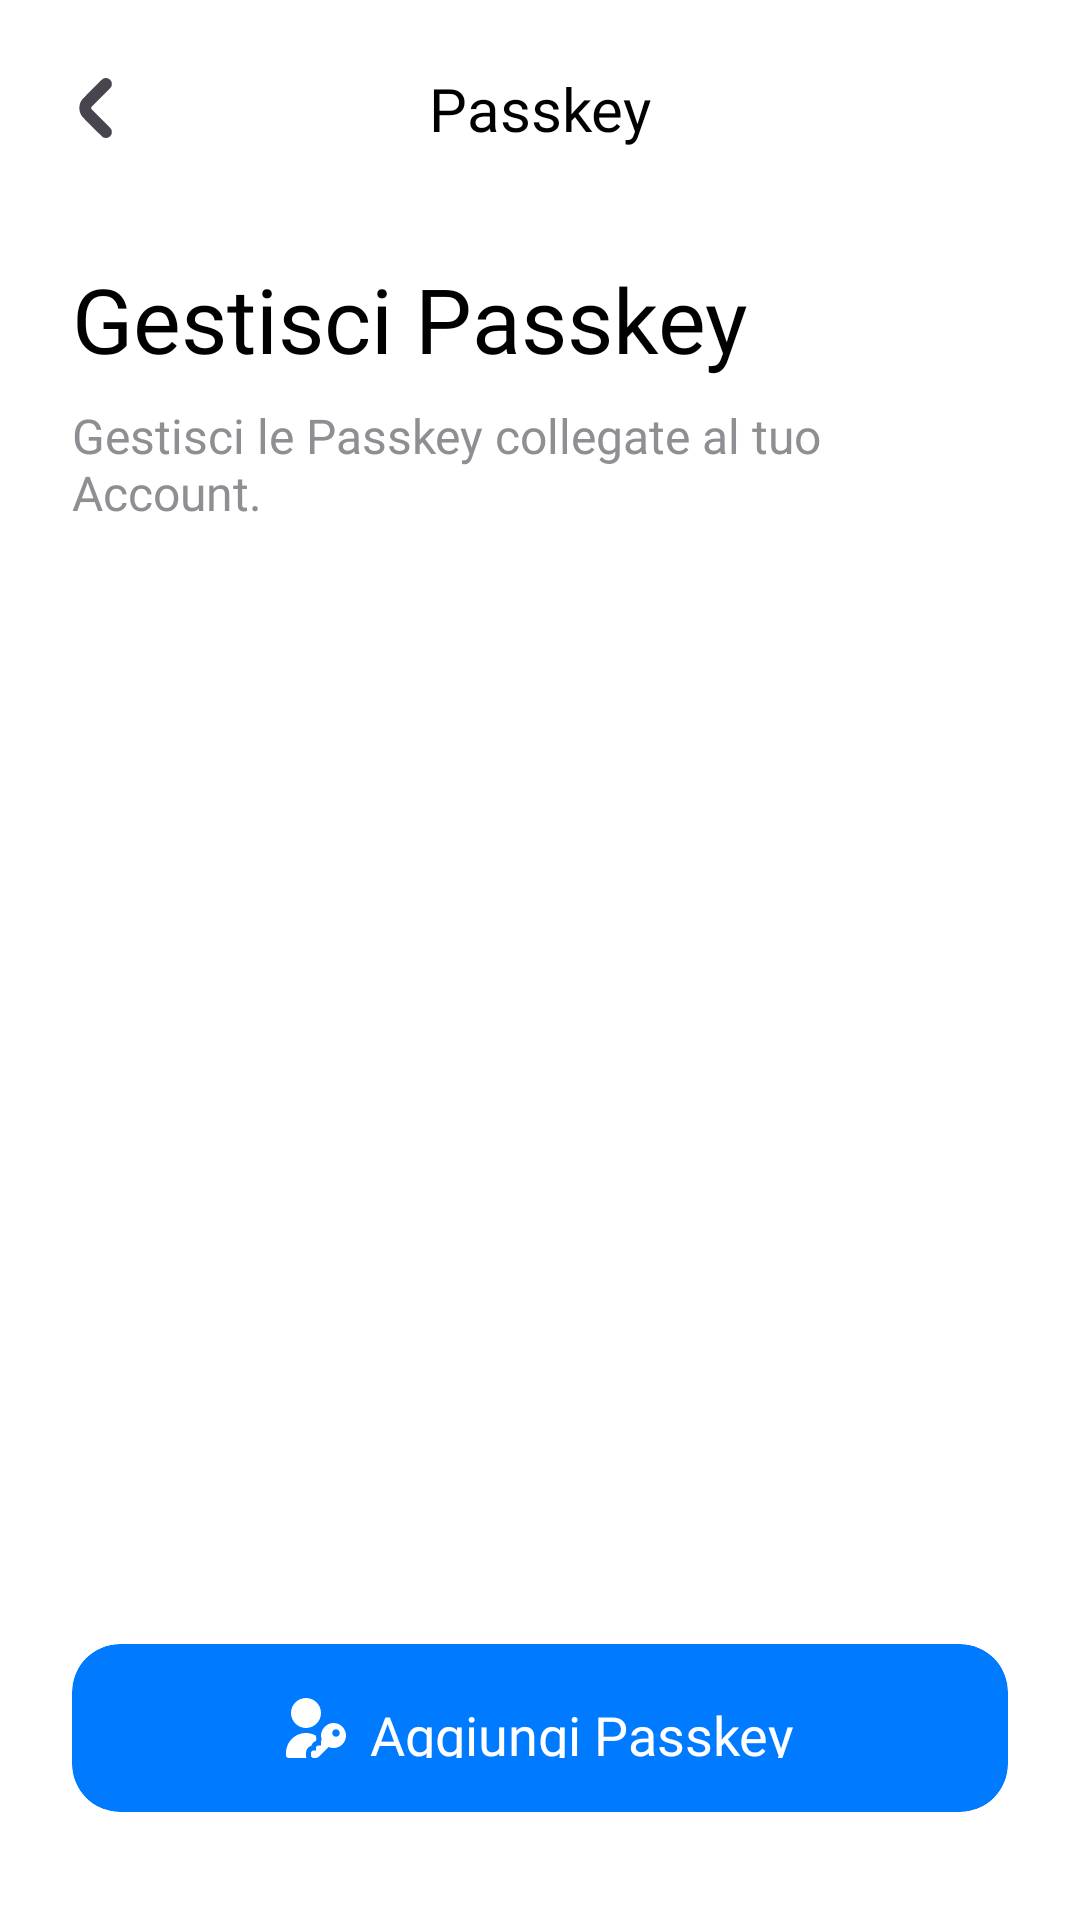

Where to tap for icons on this 1080x1920 app screen, as (x=x, y=y):
back: (x=95, y=108)
user passkeys: (x=316, y=1728)
